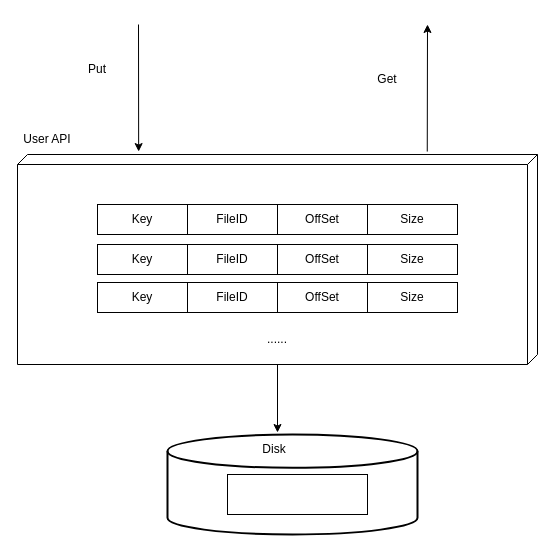
The diagram is 555 pixels wide and 553 high, and some of its shapes have lost their labels. Each missing label, with the box of its shape:
Datalog: (226, 474, 368, 514)
Memory: (16, 154, 538, 364)
